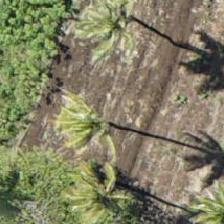coconut_tree: (37, 82, 127, 172), (67, 0, 157, 71), (172, 169, 223, 223)
